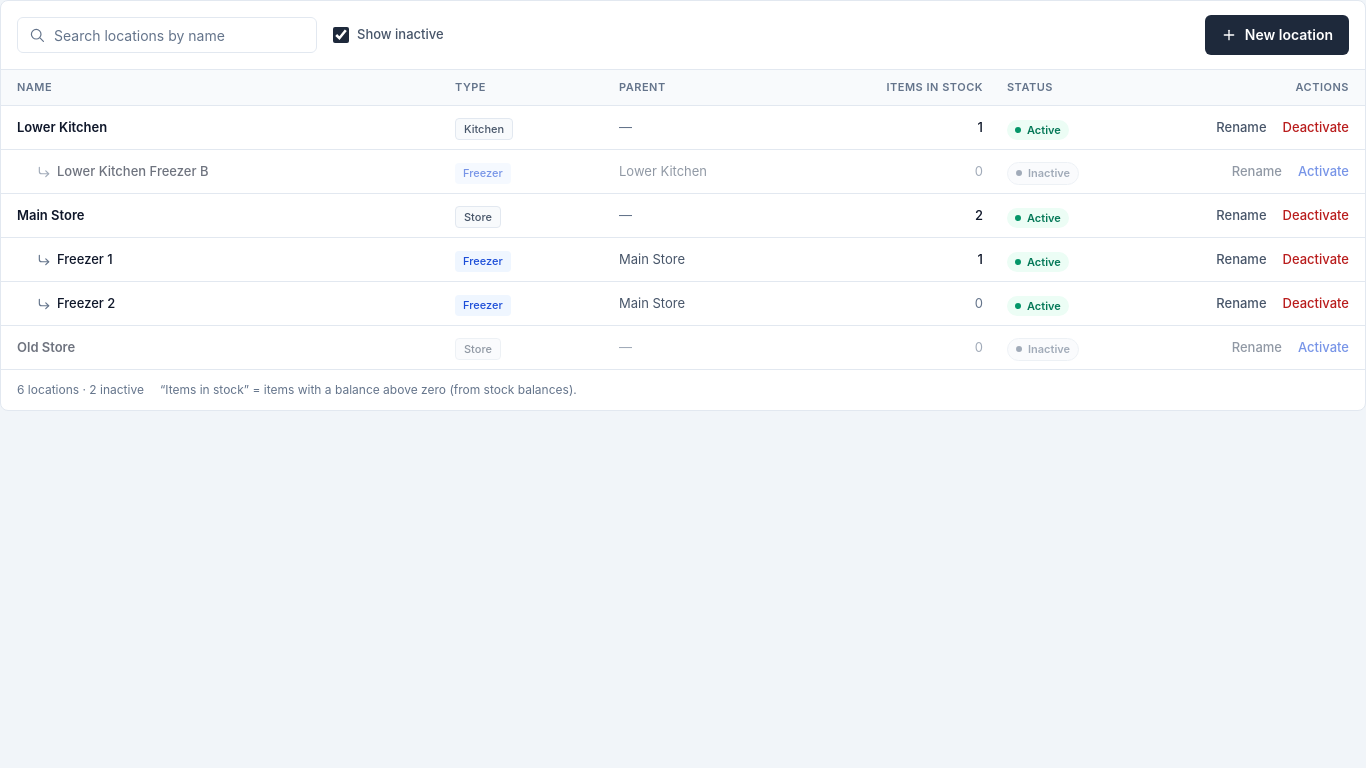
it: StockLocationsPage (UI-STOCK-002, desktop) › maps 400 INVALID_PARENT to the Parent field
The image size is (1366, 768).
Expected: the table is shown, [1,69,1365,370]
Click the button "New location" at (1277, 35), box [1205,15,1349,55]
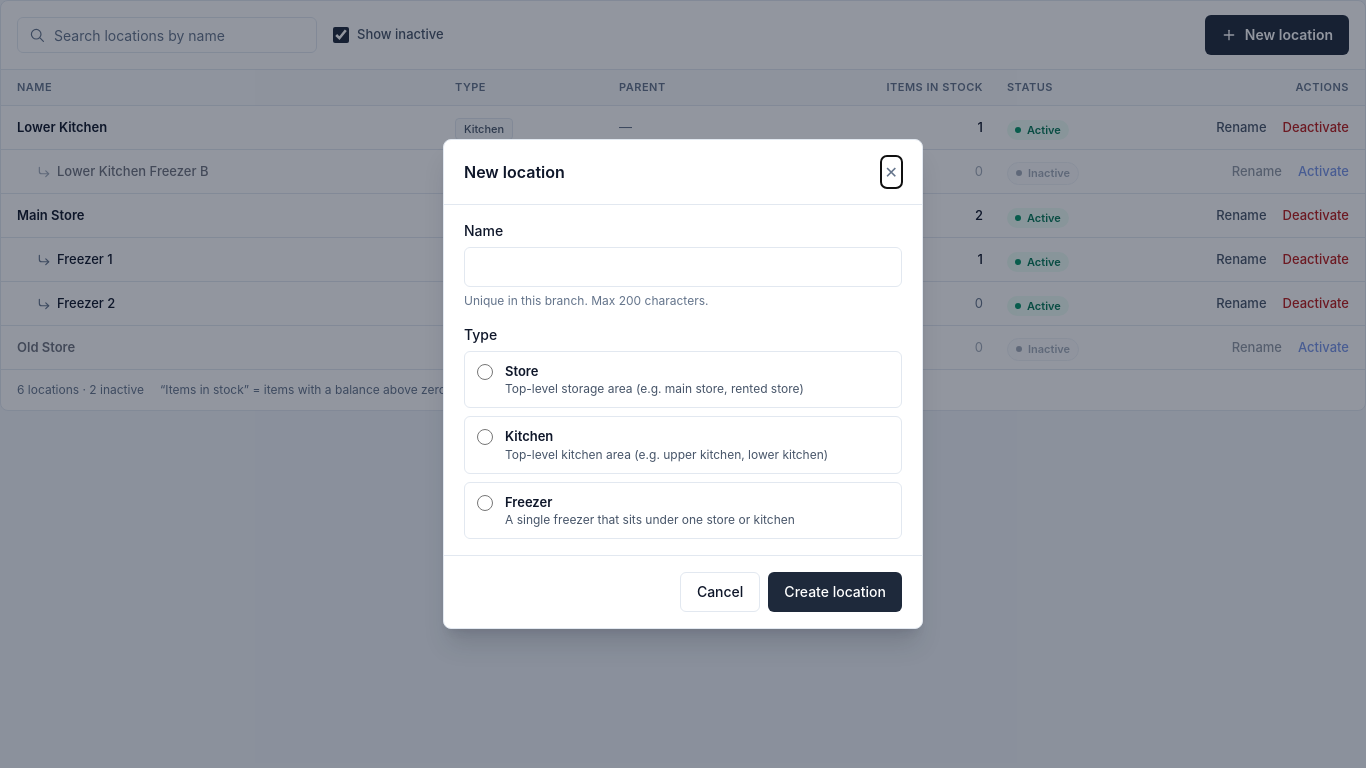
Type "Freezer 9" into the field labelled "Name" at (683, 267), box [464,247,902,287]
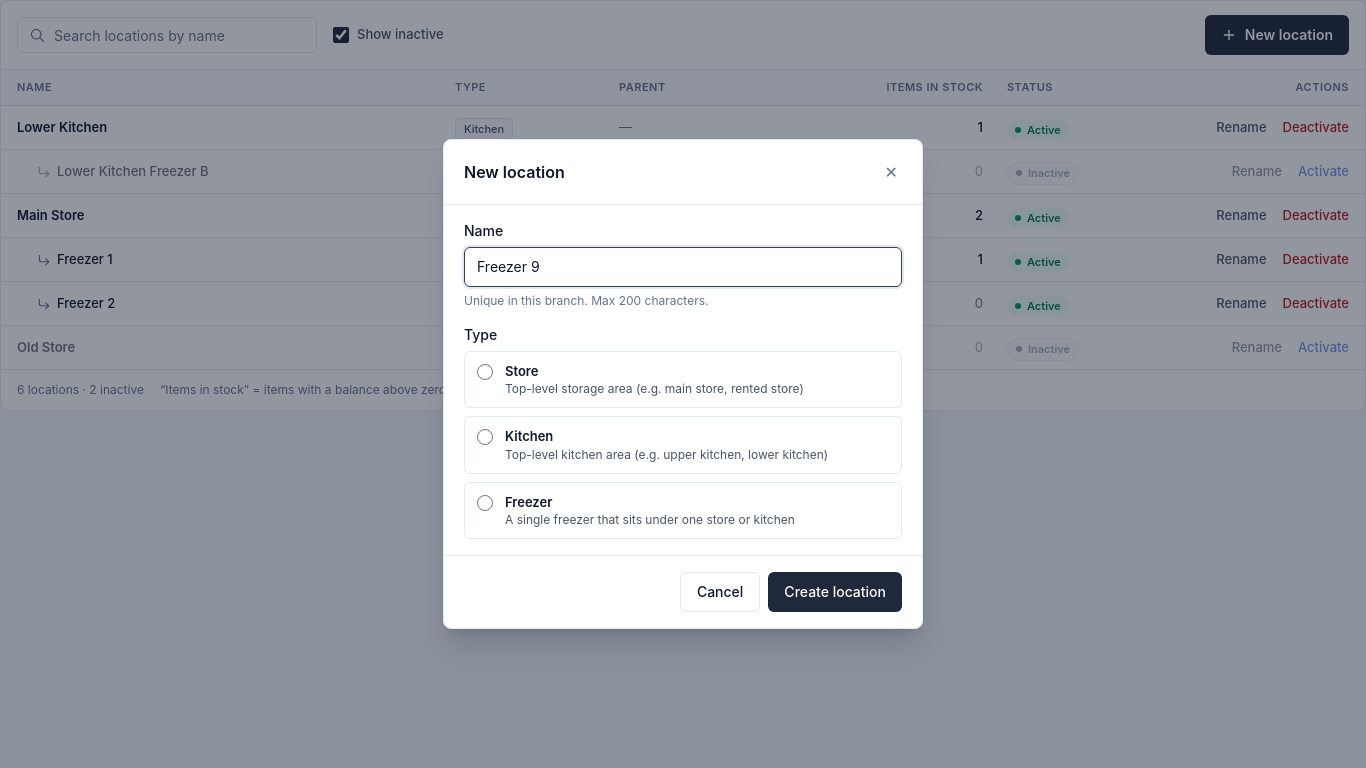
Click the radio button labelled "Freezer" at (485, 503), box [477,495,493,511]
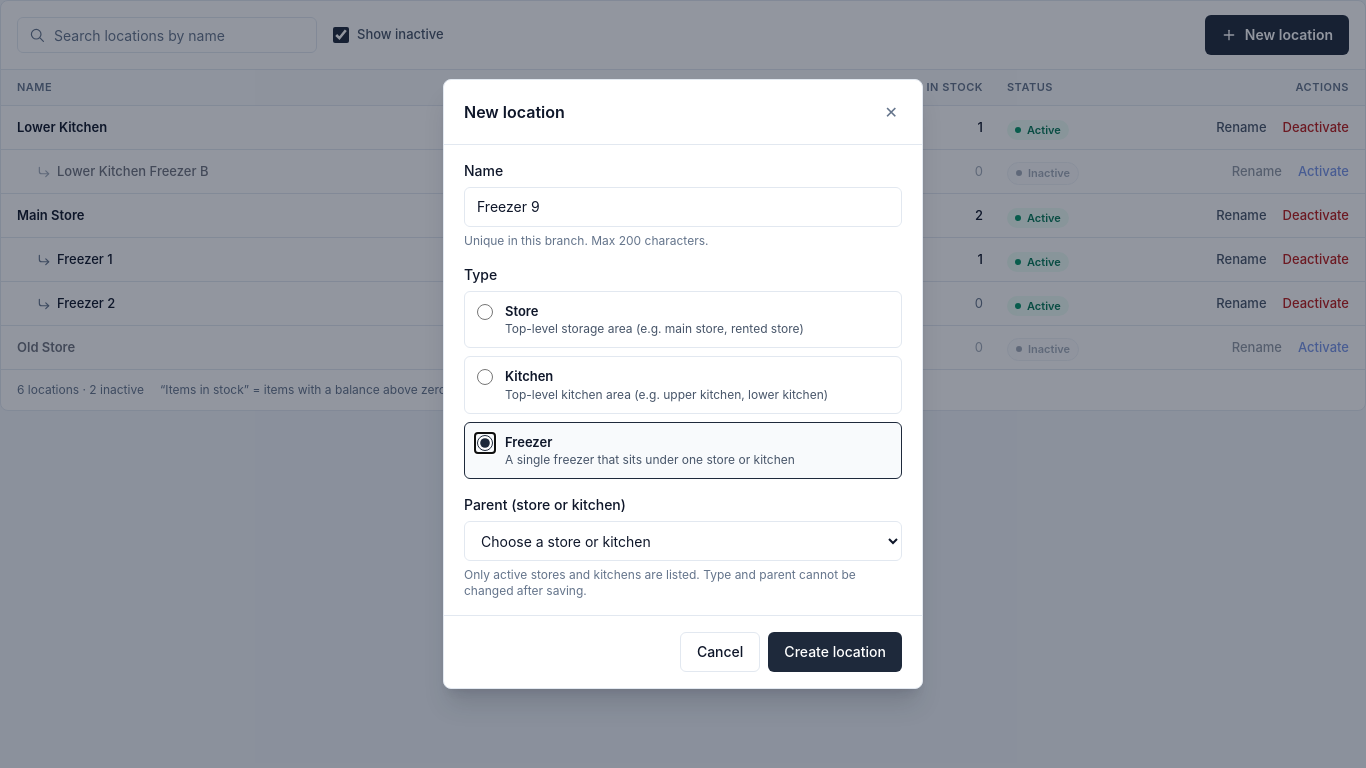
Select "Lower Kitchen" in the dropdown labelled "Parent (store or kitchen)" at (683, 541), box [464,521,902,561]
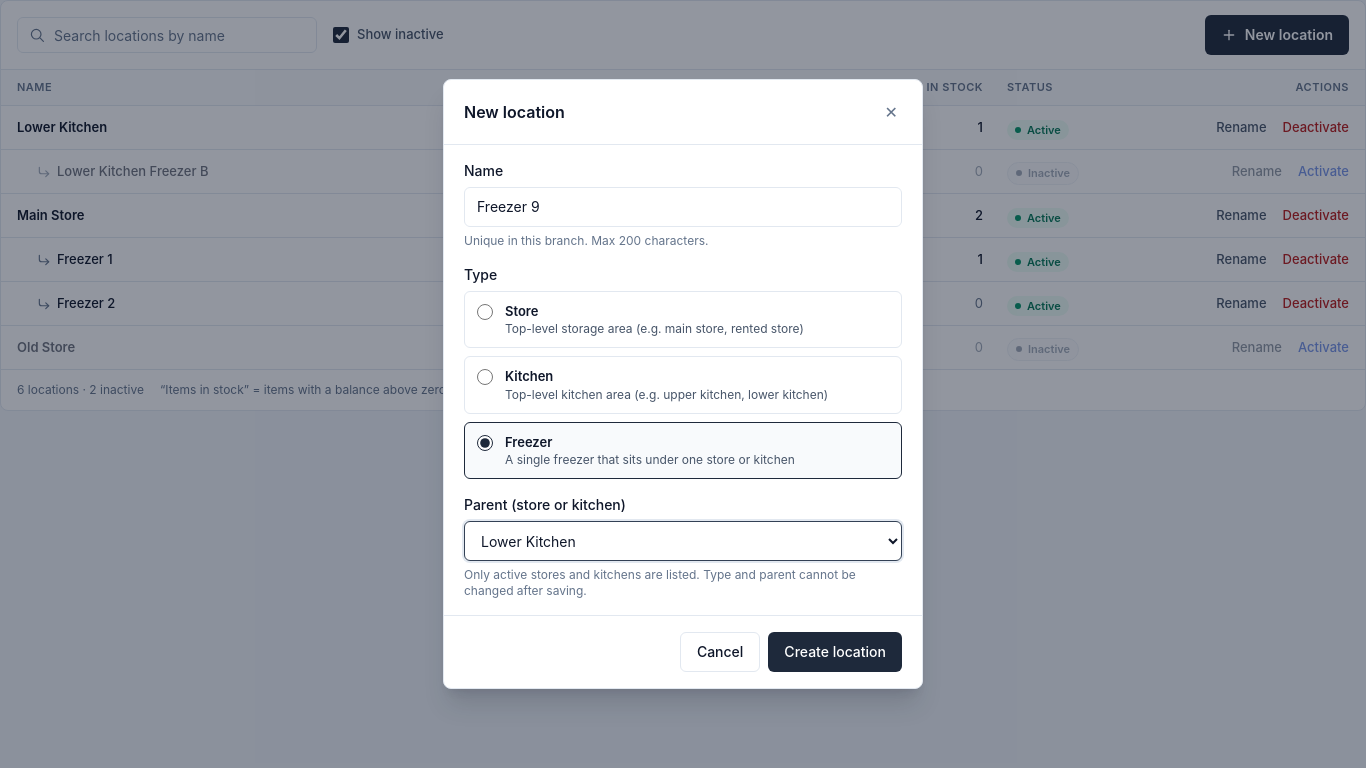
Click the button "Create location" at (835, 652), box [768,632,902,672]
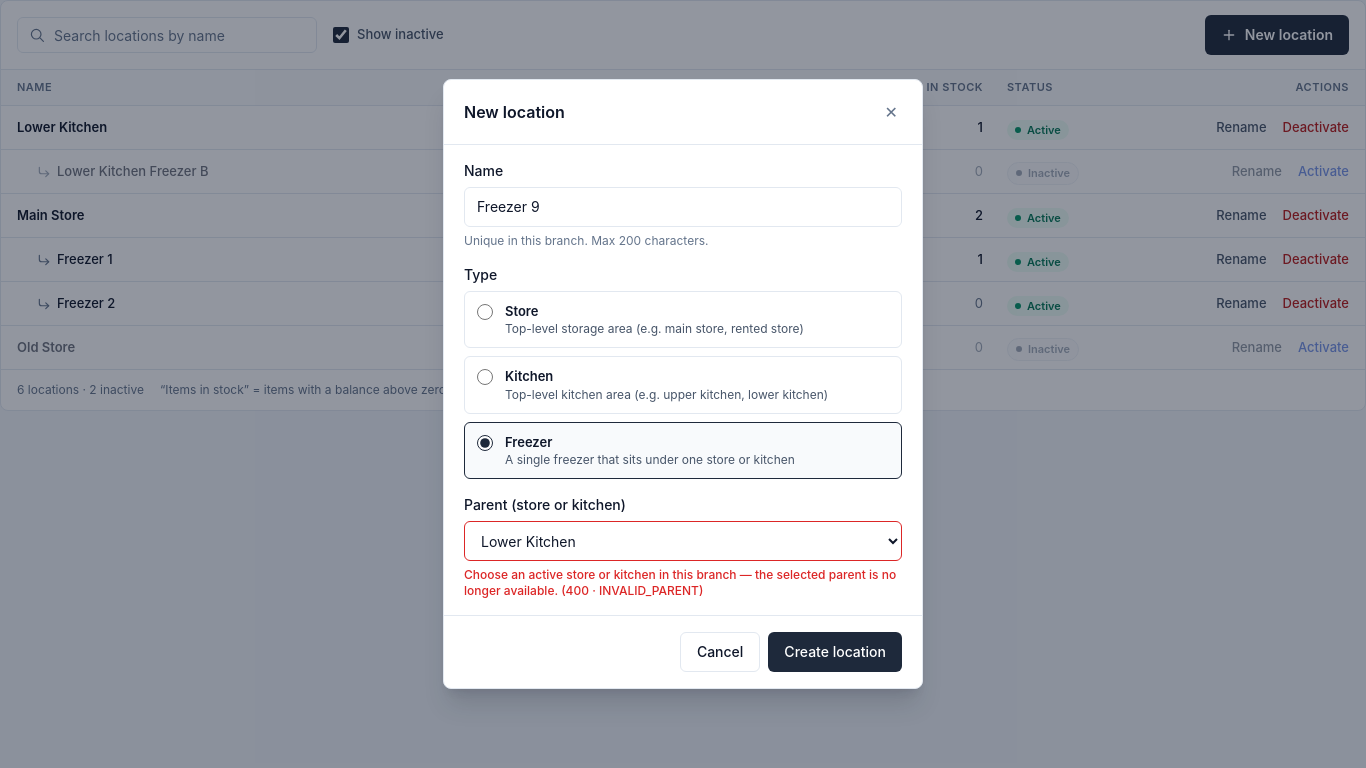
Expected: the text "selected parent is no longer available. (400 · INVALID_PARENT)" is shown, [464,567,896,598]
